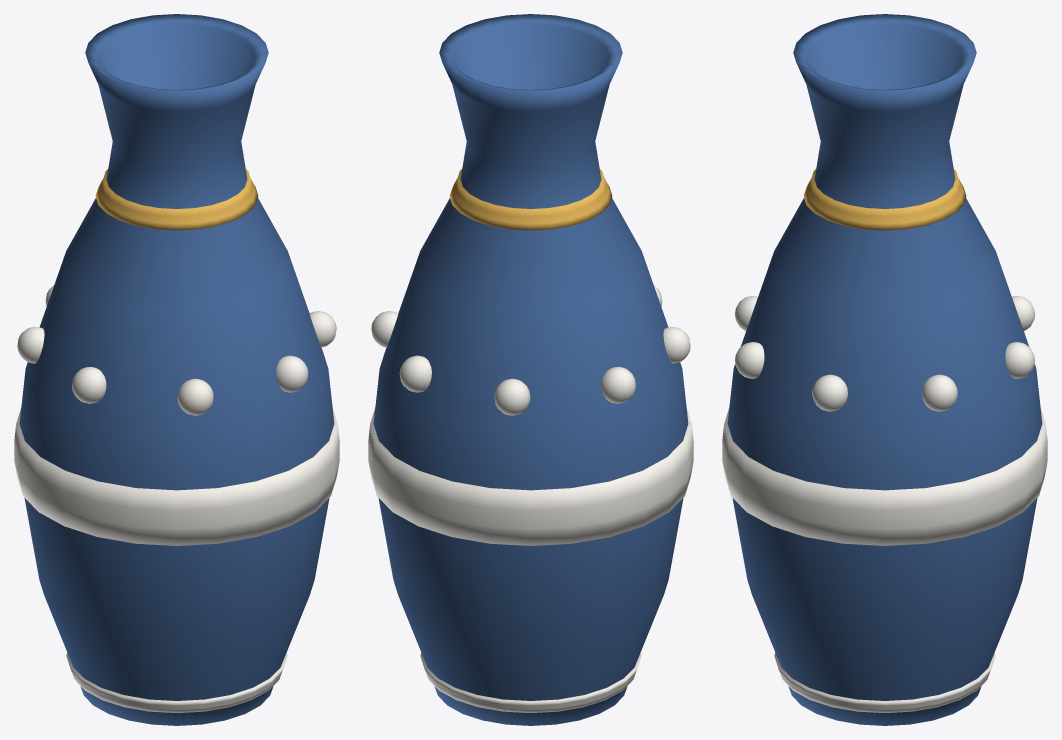
The model's file is hh_cat_vase.glb.
3 renders of one model, left to right at view 1: azimuth 30°, elevation 25°; view 2: azimuth 150°, elevation 25°; view 3: azimuth 270°, elevation 25°, orthographic.
Parts seen in each view (by area): view 1: body, band, neck_line, foot_line, dot.005, dot.004, dot.006, dot.003, dot.007; view 2: body, band, neck_line, foot_line, dot.002, dot.003, dot.001, dot.004, dot; view 3: body, band, neck_line, foot_line, dot, dot.007, dot.001, dot.006.
Part boxes in pixels (x1,y1,x2,y2): body: (19, 14, 334, 725); band: (14, 408, 339, 545); neck_line: (95, 169, 258, 230); foot_line: (66, 653, 287, 712); dot.005: (177, 378, 213, 415); dot.004: (72, 367, 106, 403); dot.006: (276, 355, 308, 392); dot.003: (17, 327, 44, 363); dot.007: (309, 311, 336, 347); body: (373, 14, 688, 725); band: (368, 408, 693, 545); neck_line: (449, 169, 612, 230); foot_line: (420, 653, 641, 712); dot.002: (494, 378, 530, 415); dot.003: (601, 367, 635, 403); dot.001: (399, 355, 431, 392); dot.004: (663, 327, 690, 363); dot: (371, 311, 398, 347); body: (727, 14, 1042, 725); band: (722, 408, 1047, 545); neck_line: (803, 169, 966, 230); foot_line: (774, 653, 995, 712); dot: (922, 374, 957, 411); dot.007: (812, 374, 847, 411); dot.001: (1005, 342, 1034, 378); dot.006: (735, 342, 764, 378).
Bounding box in the file's own units: 0.14 × 0.3 × 0.14.
